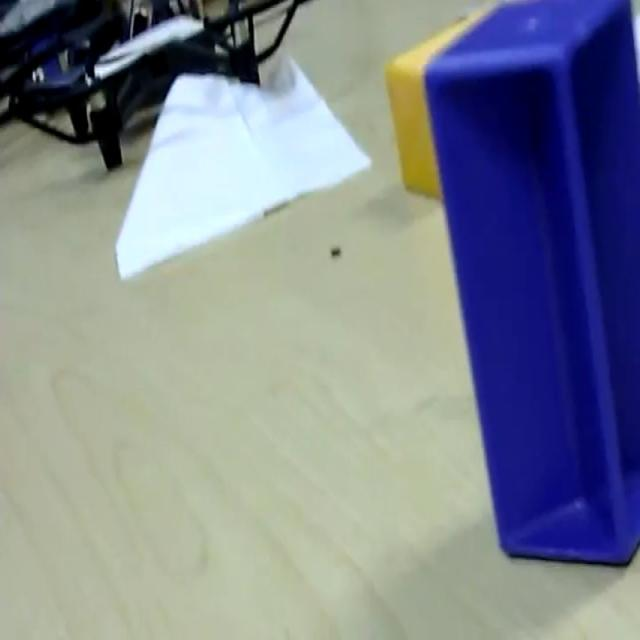blue_block: (422, 0, 638, 567)
yellow_block: (383, 8, 488, 199)
